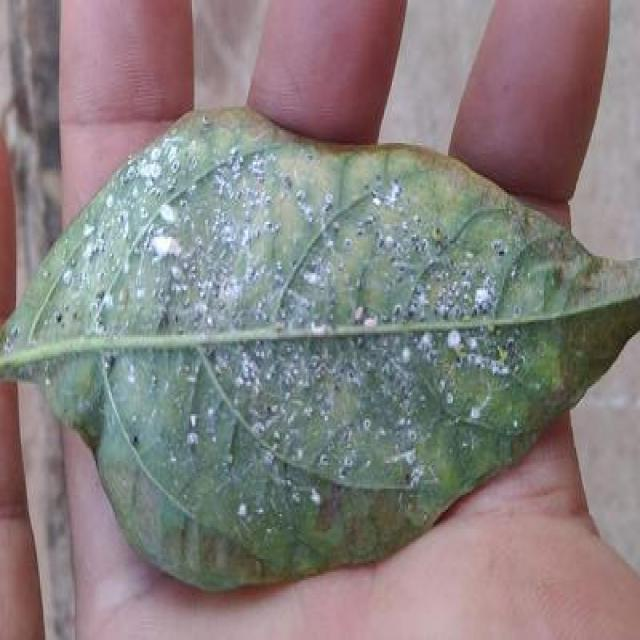Whitefly: (0, 101, 640, 599)
